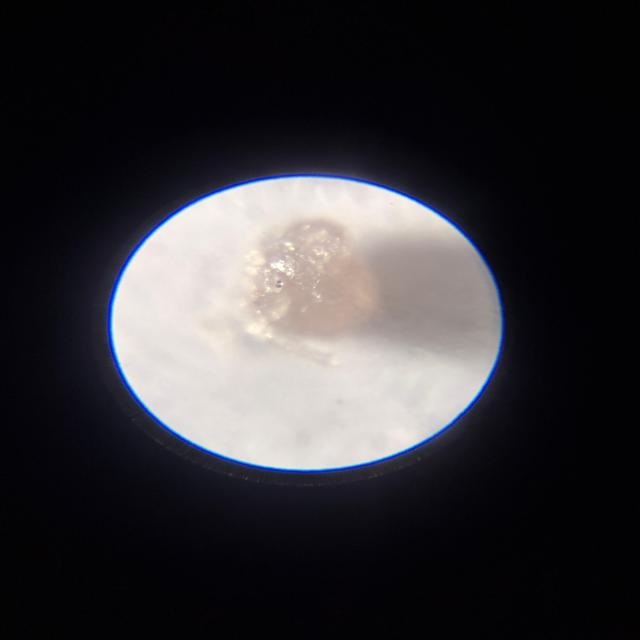microplastic_type_1: (205, 219, 421, 365)
